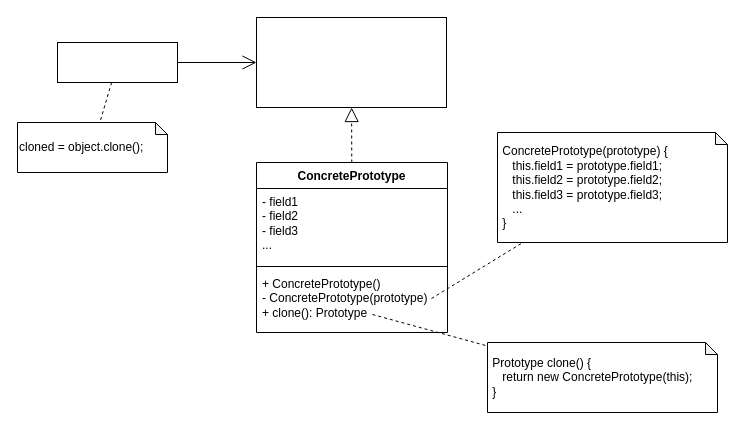
This 745x430 diagram has some shape labels left out. The shapes that lost their labels are listed below. From the top down, each one's centre as x and y in pixels, then its label:
At point (117, 62): "Client".
At point (351, 62): "<<Interface>> Prototype + clone(): Prototype".
